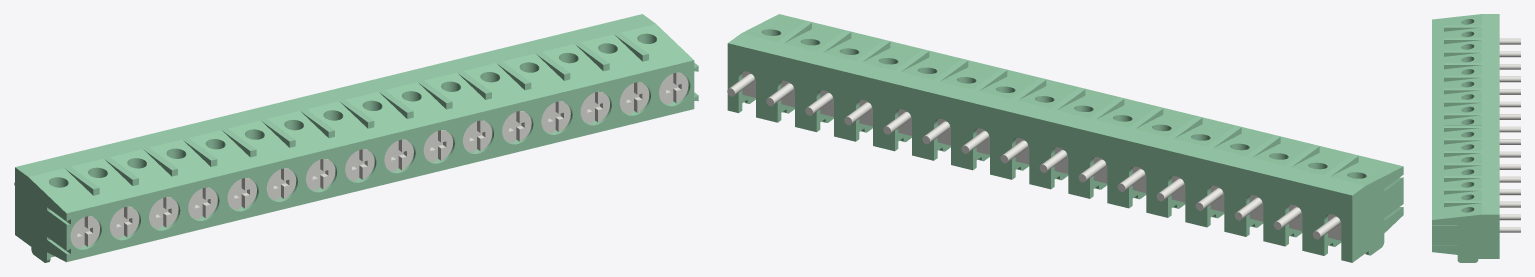
Rendered from TerminalBlock_Phoenix_PT-1,5-16-5.0-H_1x16_P5.00mm_Horizontal.glb.
3 views of the same model, side by side, from view 1: azimuth 30°, elevation 25°; view 2: azimuth 150°, elevation 25°; view 3: azimuth 270°, elevation 25° (orthographic). The views are drawn at different scales.
Parts seen in each view (by area): view 1: Shape_IndexedFaceSet.308, Shape_IndexedFaceSet.301, Shape_IndexedFaceSet.092, Shape_IndexedFaceSet.080; view 2: Shape_IndexedFaceSet.012, Shape_IndexedFaceSet.308, Shape_IndexedFaceSet.092, Shape_IndexedFaceSet.080; view 3: Shape_IndexedFaceSet.308, Shape_IndexedFaceSet.092, Shape_IndexedFaceSet.078, Shape_IndexedFaceSet.315, Shape_IndexedFaceSet.376, Shape_IndexedFaceSet.528, Shape_IndexedFaceSet.529, Shape_IndexedFaceSet.530, Shape_IndexedFaceSet.531, Shape_IndexedFaceSet.533, Shape_IndexedFaceSet.539, Shape_IndexedFaceSet.535 (+40 smaller).
Part boxes in pixels (left/top/right/bottom): Shape_IndexedFaceSet.308: left=29, top=24, right=693, bottom=213; Shape_IndexedFaceSet.301: left=66, top=60, right=698, bottom=261; Shape_IndexedFaceSet.092: left=15, top=14, right=655, bottom=189; Shape_IndexedFaceSet.080: left=15, top=167, right=66, bottom=262; Shape_IndexedFaceSet.012: left=727, top=43, right=1352, bottom=262; Shape_IndexedFaceSet.308: left=742, top=14, right=1403, bottom=185; Shape_IndexedFaceSet.092: left=728, top=21, right=1365, bottom=195; Shape_IndexedFaceSet.080: left=1352, top=166, right=1403, bottom=262; Shape_IndexedFaceSet.308: left=1432, top=14, right=1481, bottom=219; Shape_IndexedFaceSet.092: left=1444, top=14, right=1499, bottom=214; Shape_IndexedFaceSet.078: left=1432, top=214, right=1499, bottom=262; Shape_IndexedFaceSet.315: left=1499, top=38, right=1520, bottom=44; Shape_IndexedFaceSet.376: left=1499, top=51, right=1520, bottom=57; Shape_IndexedFaceSet.528: left=1499, top=214, right=1520, bottom=220; Shape_IndexedFaceSet.529: left=1499, top=201, right=1520, bottom=207; Shape_IndexedFaceSet.530: left=1499, top=189, right=1520, bottom=195; Shape_IndexedFaceSet.531: left=1499, top=176, right=1520, bottom=182; Shape_IndexedFaceSet.533: left=1499, top=151, right=1520, bottom=157; Shape_IndexedFaceSet.539: left=1499, top=76, right=1520, bottom=82; Shape_IndexedFaceSet.535: left=1499, top=126, right=1520, bottom=132.
Bounding box in the file's own units: 31.72 × 3.54 × 5.91.
